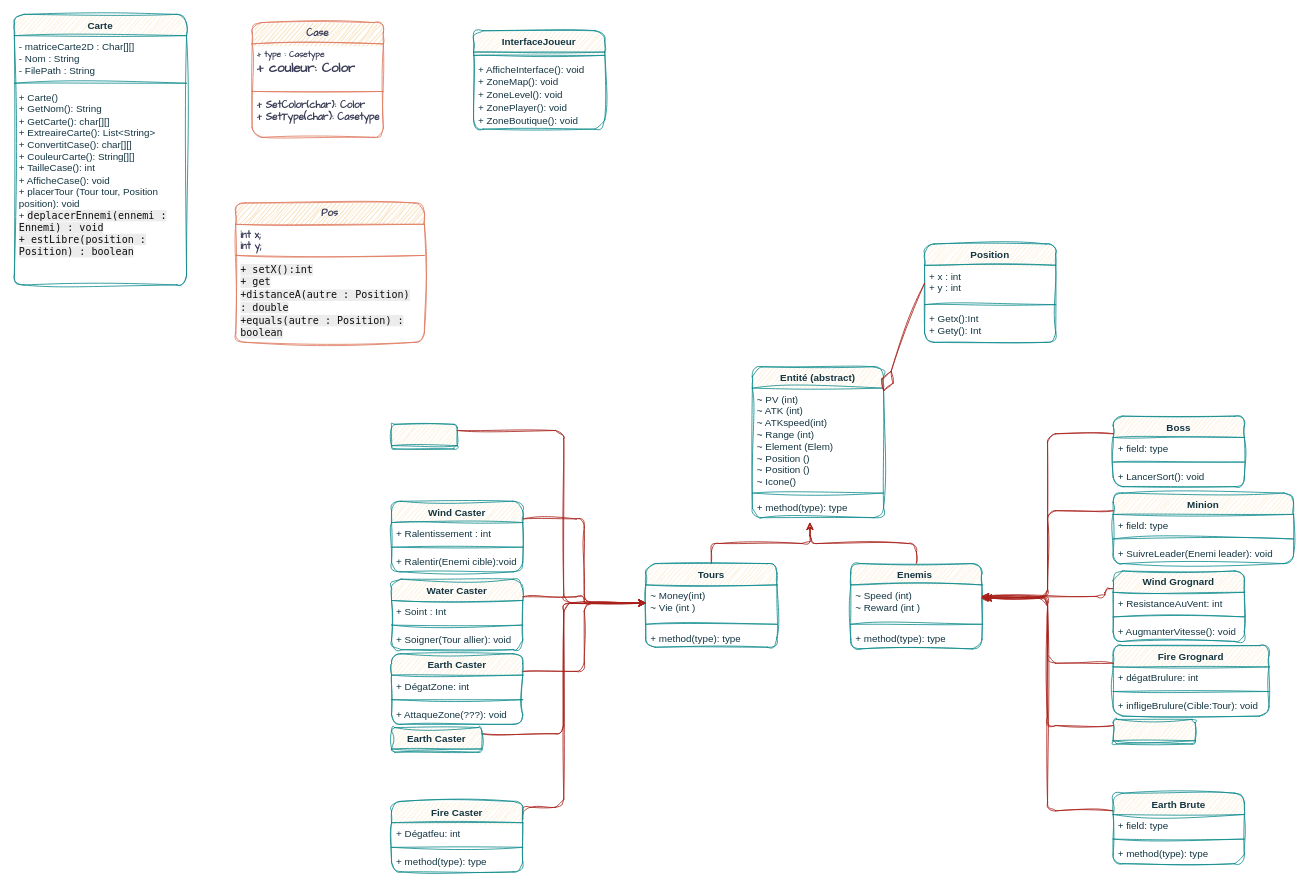
This 1308x889 diagram has some shape labels left out. The centre of each missing label's shape, as x and y in pixels:
Archer: the point at 424,436
Water Brute: the point at 1153,731
